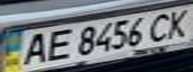4: (93, 20, 118, 53)
5: (109, 17, 133, 52)
6: (124, 15, 154, 47)
8: (75, 24, 100, 56)
A: (15, 29, 54, 66)
C: (145, 10, 178, 42)
E: (39, 26, 75, 63)
K: (160, 7, 193, 38)
